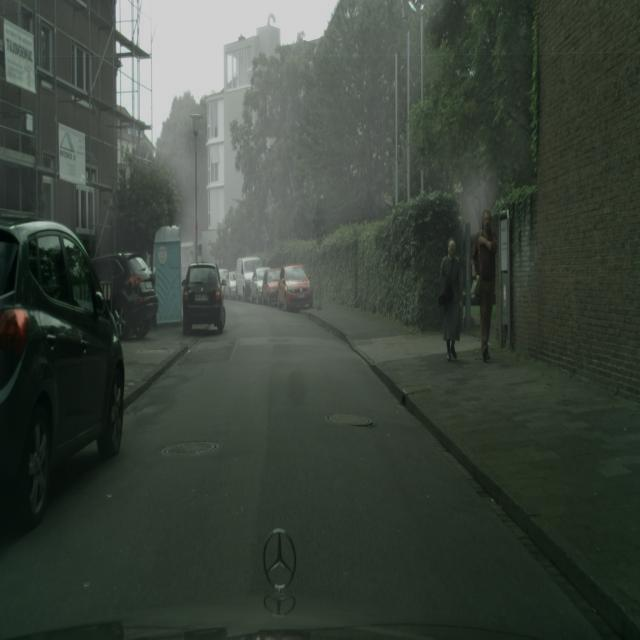bus: (0, 218, 126, 529), (91, 252, 158, 339), (182, 262, 227, 334), (277, 263, 313, 312), (236, 255, 261, 302), (261, 267, 282, 306), (250, 268, 266, 304), (227, 271, 237, 299)
person: (471, 209, 498, 361), (438, 238, 464, 362)
